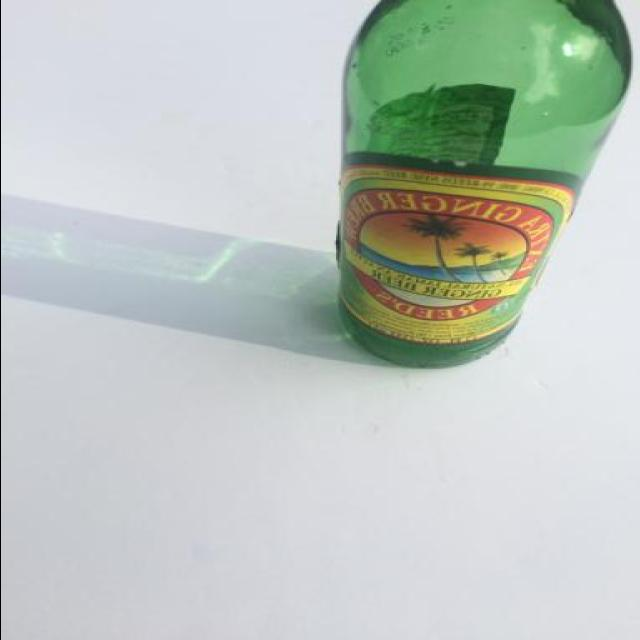glass: (333, 0, 640, 368)
